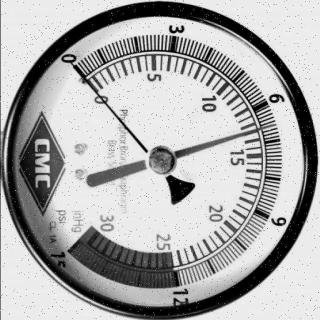gauge: (0, 0, 320, 320), (68, 207, 118, 251), (61, 54, 94, 94), (146, 144, 178, 178), (66, 62, 85, 77), (262, 119, 278, 131)
